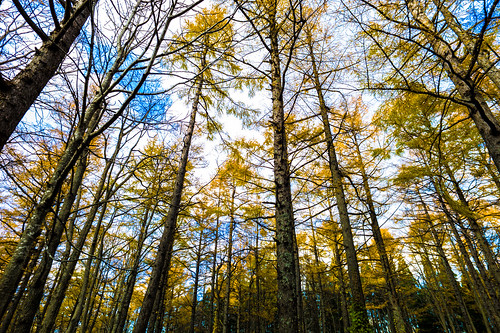vegetation: (1, 1, 500, 333)
